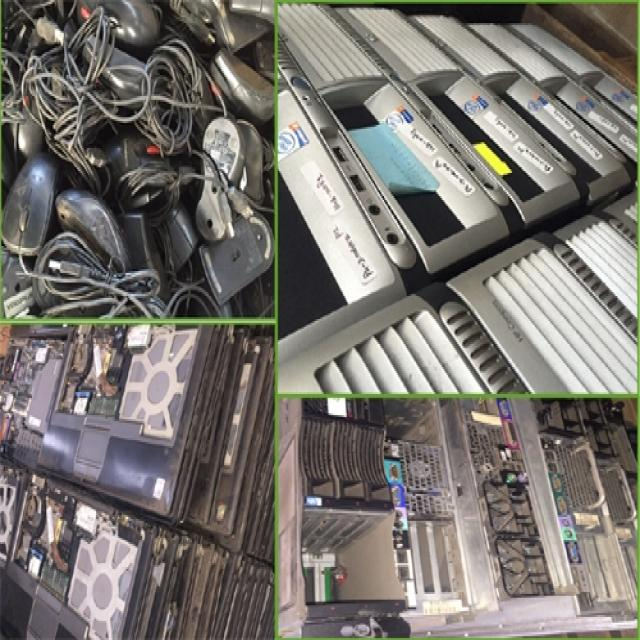heap: (12, 337, 274, 640), (15, 8, 270, 313), (301, 403, 606, 638)
